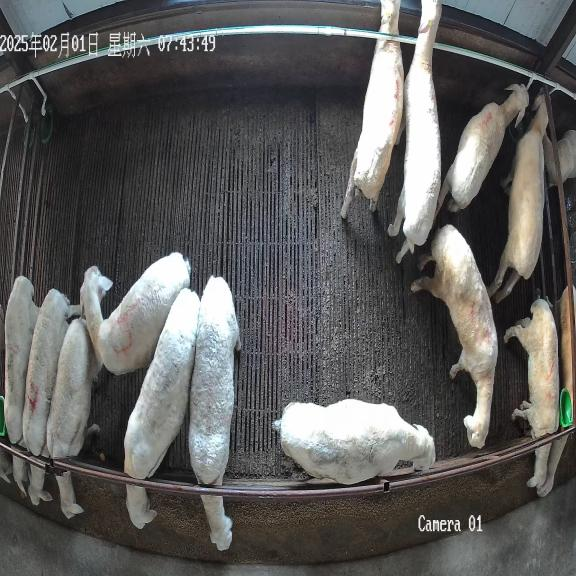eating: (124, 288, 200, 529), (189, 276, 240, 550), (20, 289, 81, 505), (47, 314, 102, 518), (504, 297, 560, 495), (4, 276, 39, 496)
stand: (411, 224, 497, 448), (388, 0, 441, 262), (275, 399, 435, 484), (80, 252, 190, 375), (341, 0, 403, 218), (487, 95, 548, 302), (435, 84, 529, 215)
